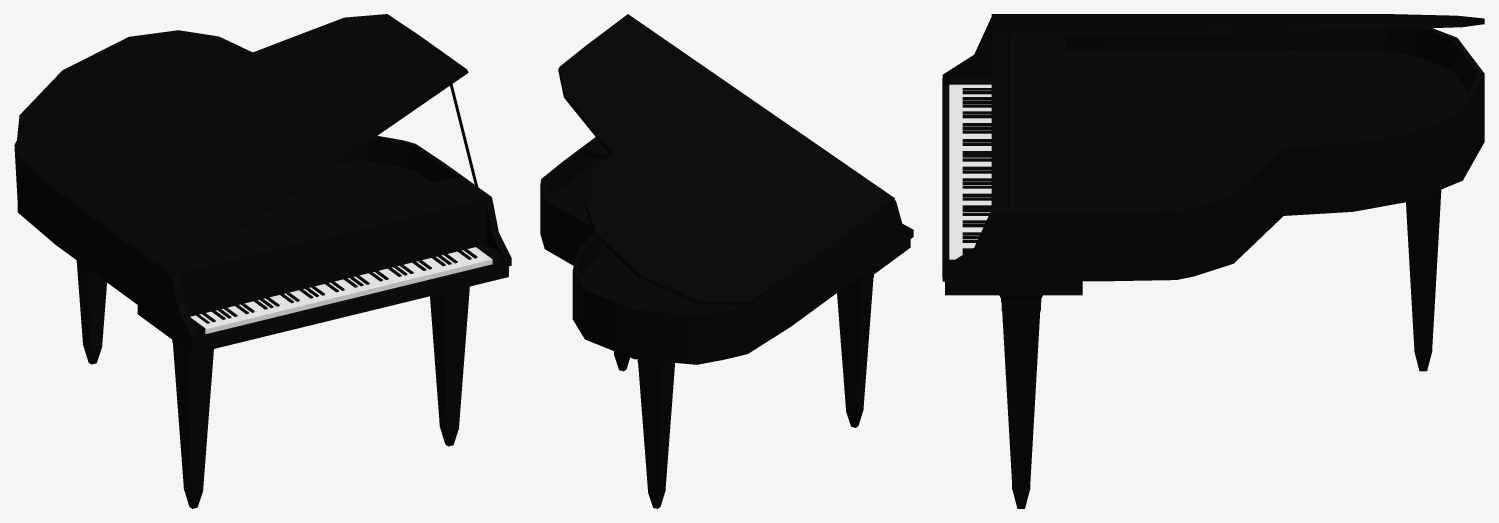
File: Piano.fbx
The picture shows the model from 3 angles, left to right: view 1: azimuth 30°, elevation 25°; view 2: azimuth 150°, elevation 25°; view 3: azimuth 270°, elevation 25°; orthographic projection. The views are drawn at different scales.
Visible parts, largest first — view 1: Piano_model; view 2: Piano_model; view 3: Piano_model.
Part boxes in pixels (bbox=[...]): Piano_model: bbox=[14, 14, 511, 508]; Piano_model: bbox=[540, 14, 913, 508]; Piano_model: bbox=[942, 14, 1484, 508].
Size of the model in its own units: 168 by 192 by 196.
1 material, 1 textured.
